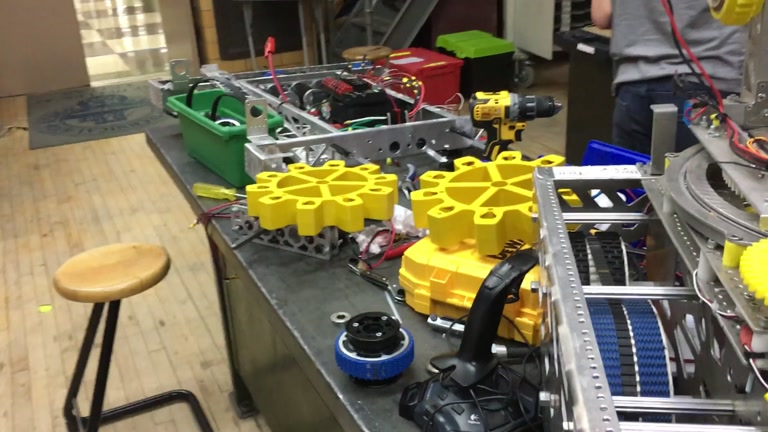gear: (410, 149, 590, 255), (244, 159, 400, 236)
